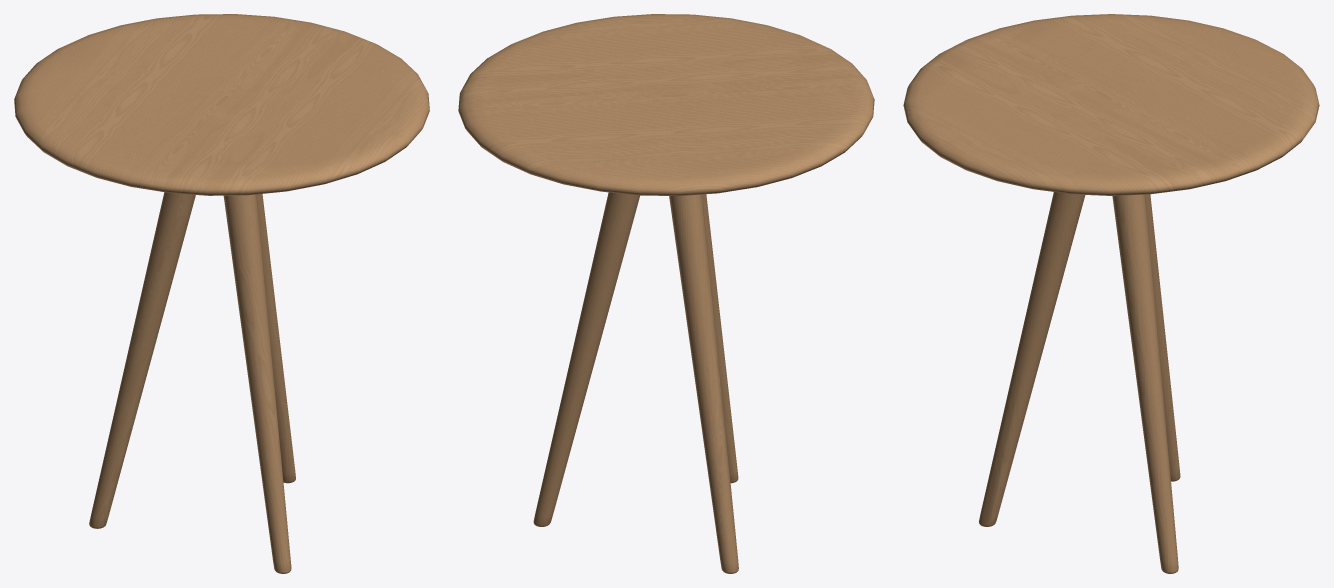
The model's file is jasper_conran_london_bray_side_table.glb.
The picture shows the model from 3 angles, left to right: view 1: azimuth 30°, elevation 25°; view 2: azimuth 150°, elevation 25°; view 3: azimuth 270°, elevation 25°; orthographic projection.
Visible parts, largest first — view 1: Jasper Conran London Bray Side Table; view 2: Jasper Conran London Bray Side Table; view 3: Jasper Conran London Bray Side Table.
Boxes of the visible parts, left/top/right/bottom form: Jasper Conran London Bray Side Table: left=14, top=14, right=429, bottom=573; Jasper Conran London Bray Side Table: left=458, top=14, right=874, bottom=573; Jasper Conran London Bray Side Table: left=903, top=14, right=1319, bottom=573.
Bounding box in the file's own units: 0.4383 × 0.497 × 0.4383.
Materials: 1 (1 with a texture image).
